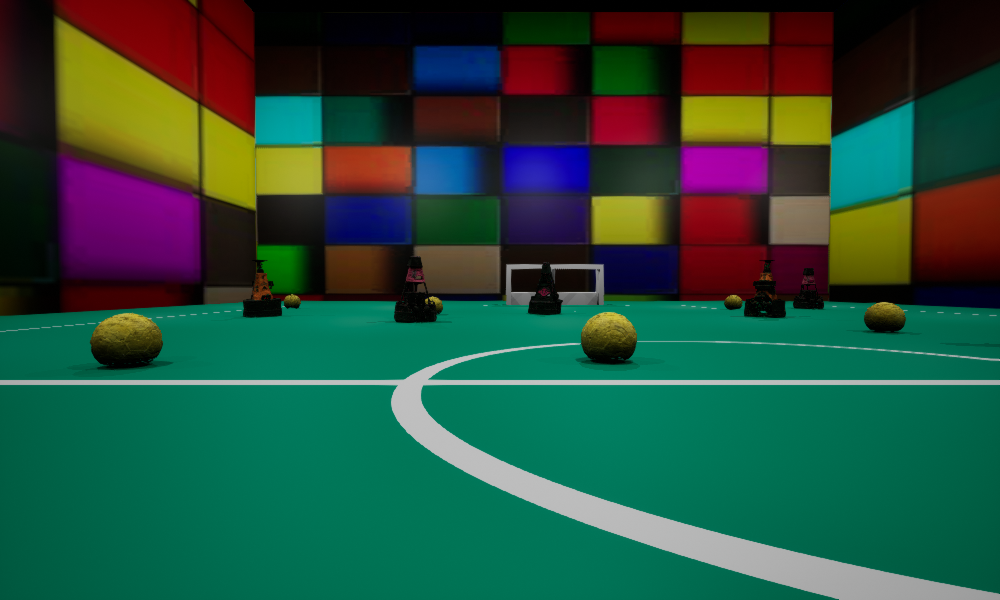b: (90, 313, 162, 367), (581, 312, 636, 362), (864, 302, 905, 332), (424, 296, 442, 313), (724, 295, 742, 309), (284, 294, 300, 308)
o: (744, 260, 785, 316), (243, 260, 281, 316)
p1: (528, 262, 562, 314)
p2: (394, 256, 436, 322), (793, 268, 823, 308)
